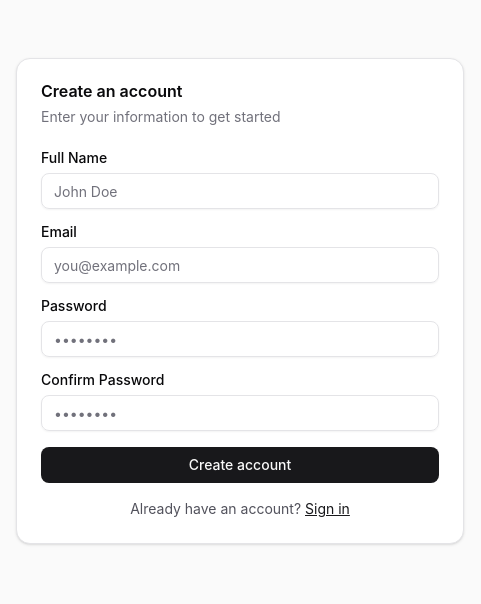
Scenario: Authentication Flow › should show validation errors for invalid registration
Try to submit with empty fields
Click the submit button: coordinates (240, 465) [41,447,439,483]
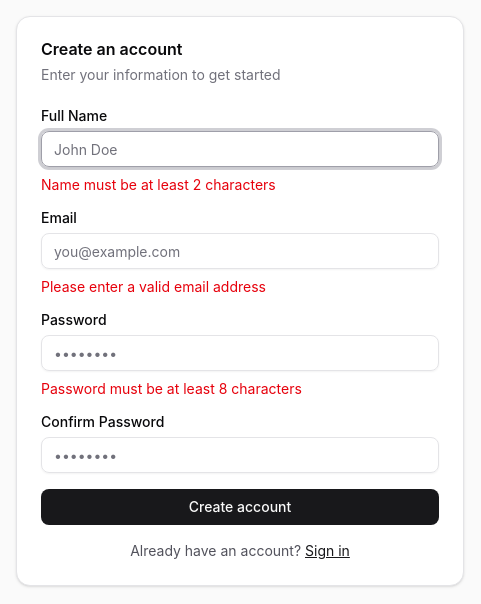
Now the text "Name must be at least 2 characters" is shown, box [41,176,276,193]
Now the text "Please enter a valid email address" is shown, box [41,278,266,295]
Now the text "Password must be at least 8 characters" is shown, box [41,380,302,397]
